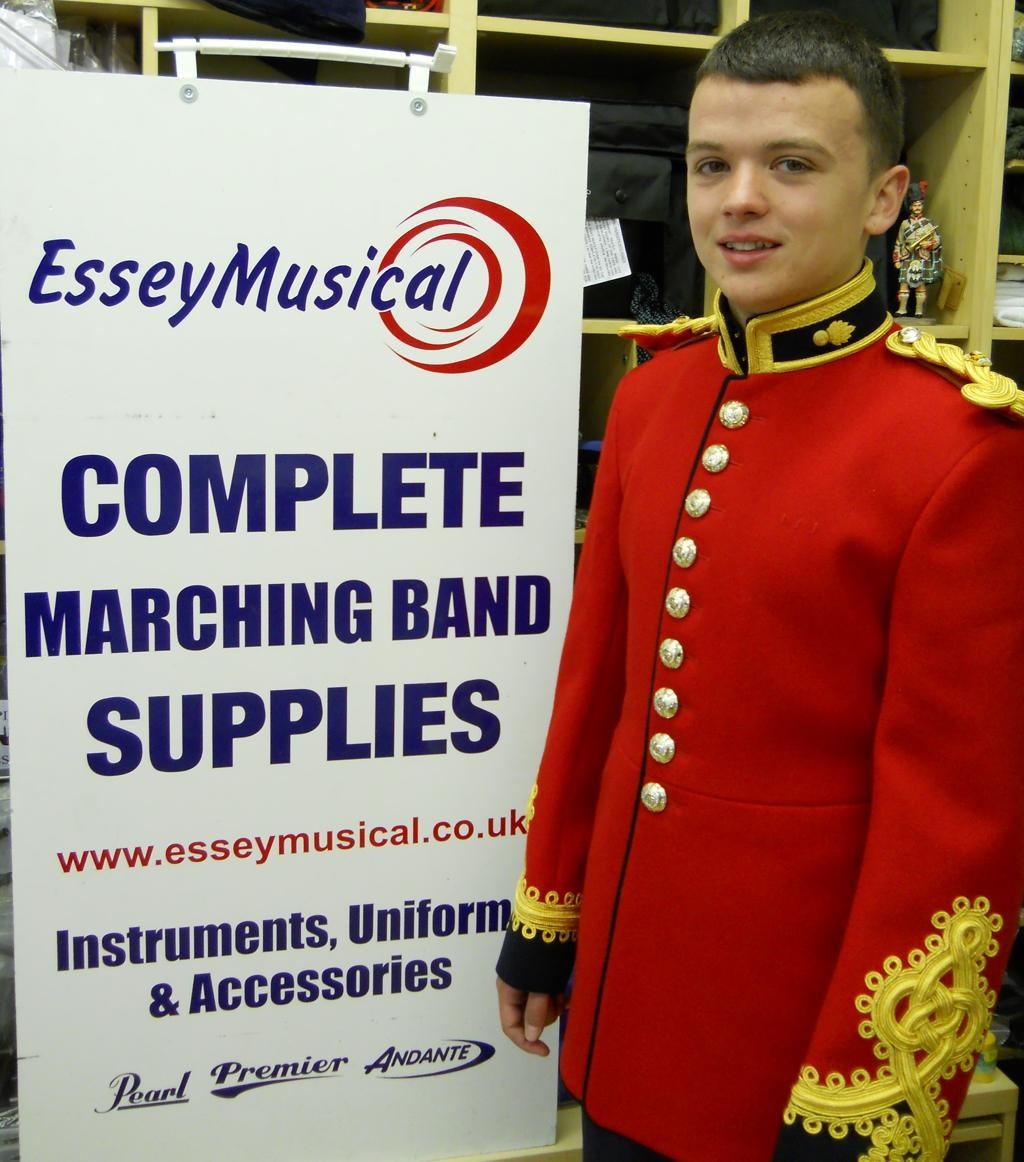human_face: (688, 73, 870, 307)
